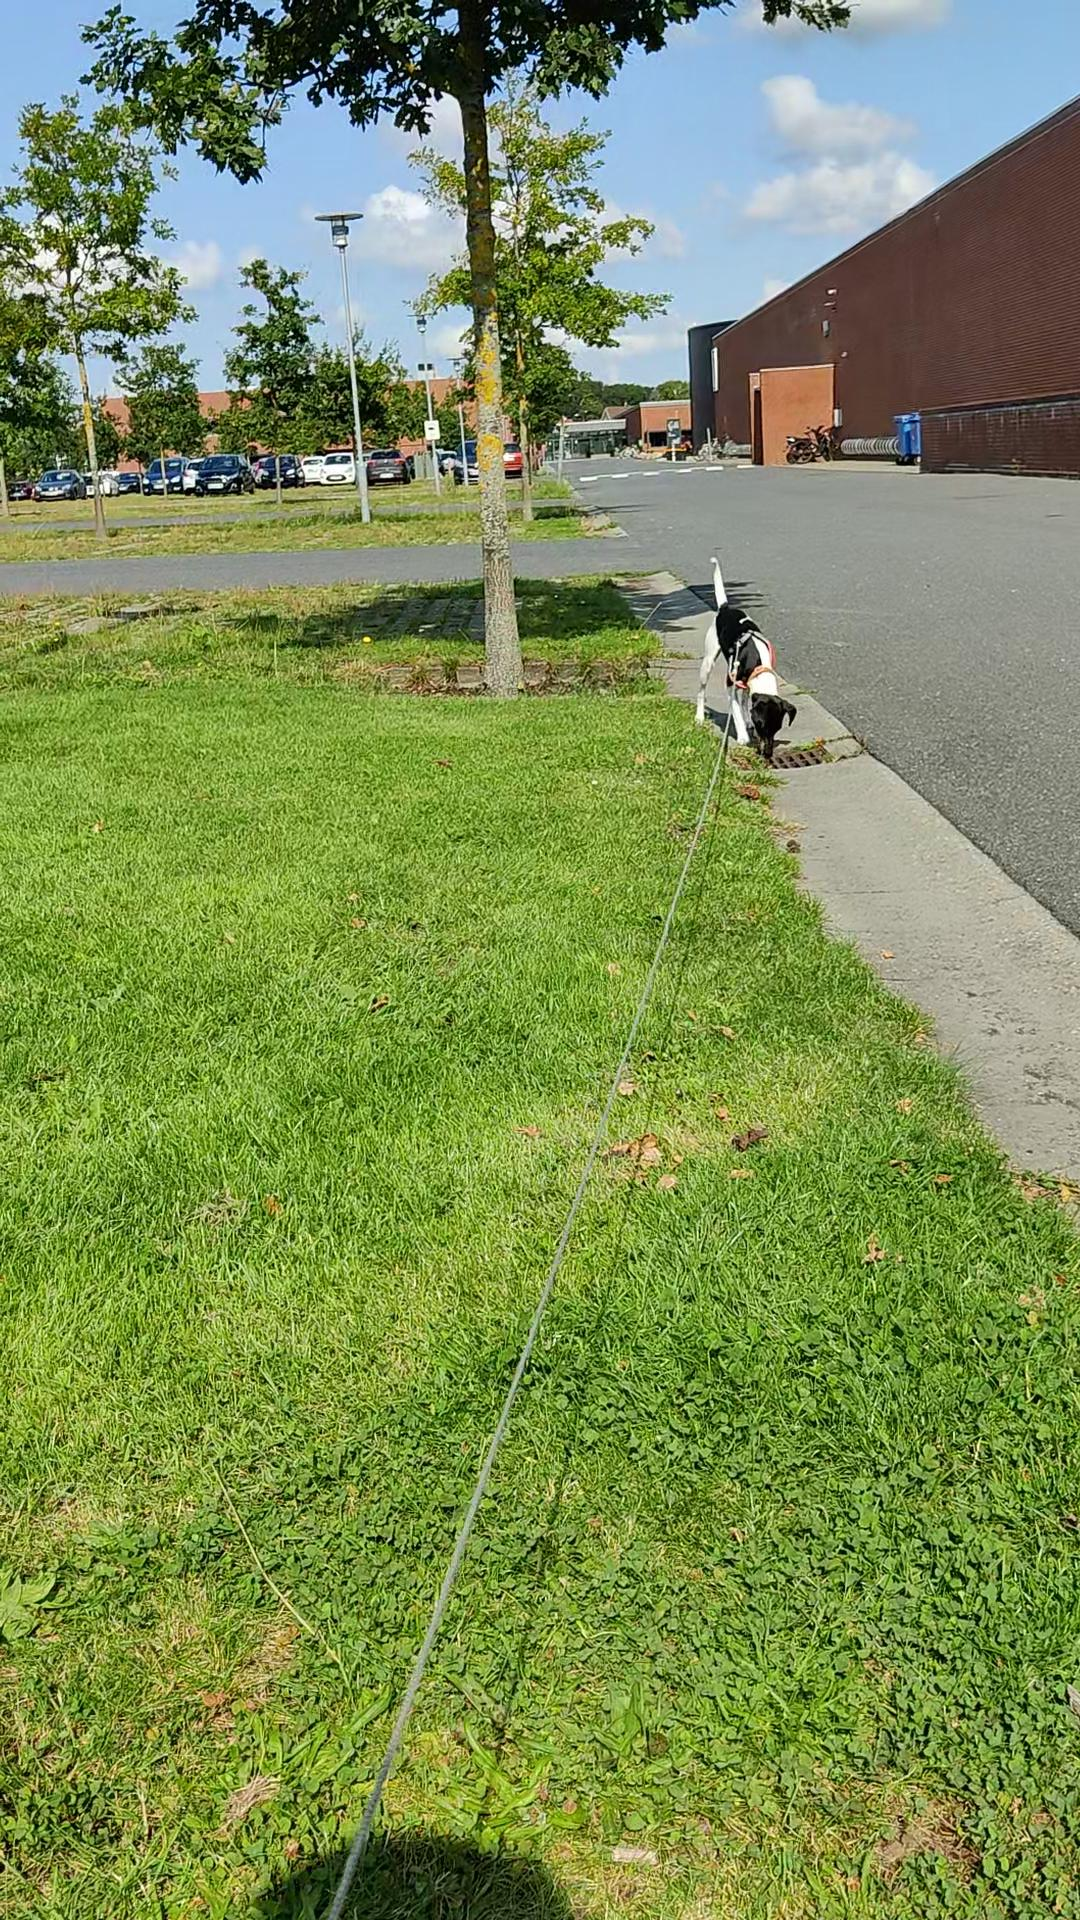Dog: (690, 554, 800, 757)
